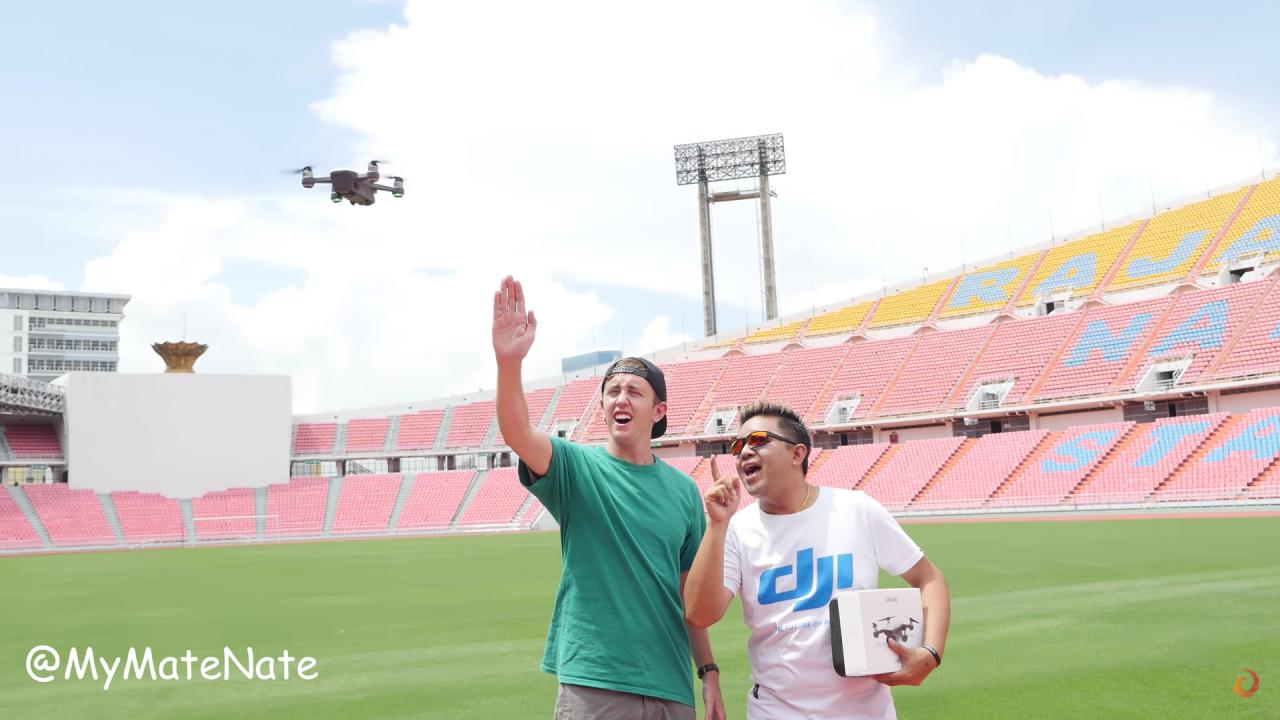Drone: (276, 145, 417, 217)
